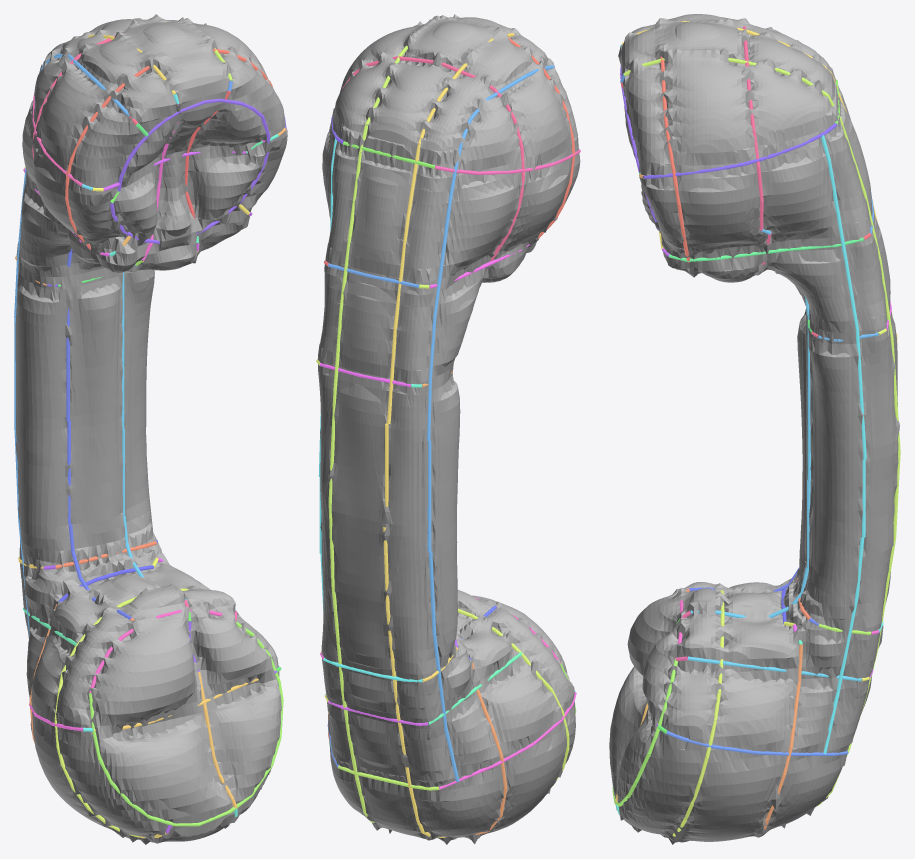
Rendered from flowrep_phone.gltf.
The picture shows the model from 3 angles, left to right: view 1: azimuth 30°, elevation 25°; view 2: azimuth 150°, elevation 25°; view 3: azimuth 270°, elevation 25°; orthographic projection.
Size of the model in its own units: 0.2727 by 0.9357 by 0.3075.
